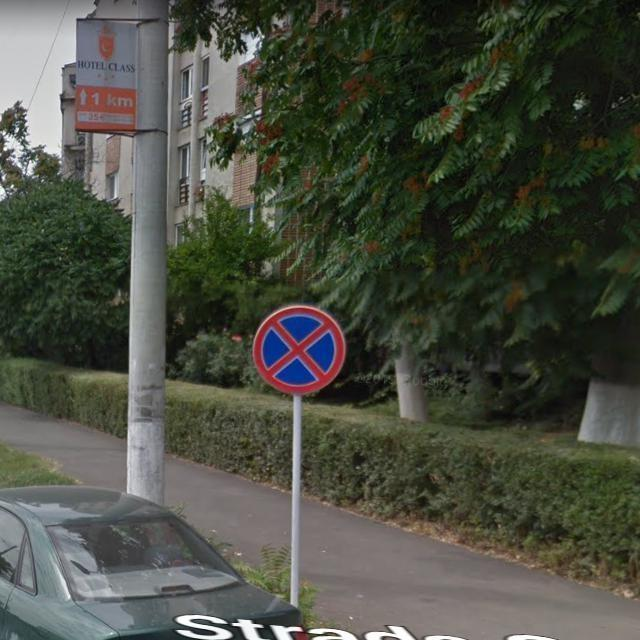forb_waiting: (250, 306, 347, 394)
